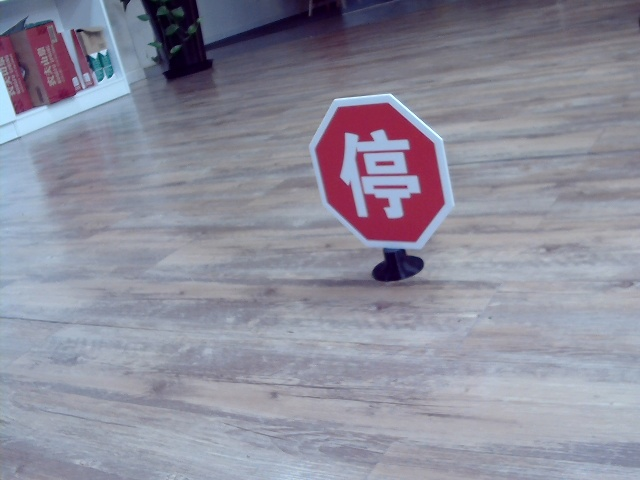stop: (338, 123, 417, 221)
